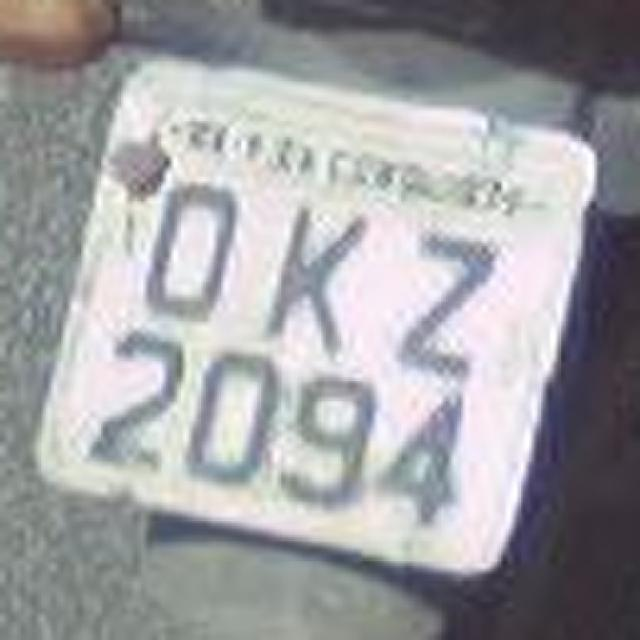0: (172, 332, 308, 500)
2: (68, 312, 204, 496)
4: (364, 356, 496, 544)
9: (265, 352, 400, 516)
K: (244, 172, 376, 368)
Z: (376, 204, 509, 376)
